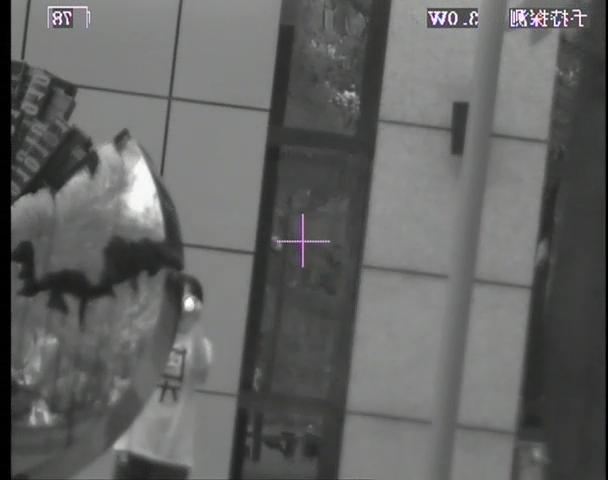my: (182, 295, 195, 312)
